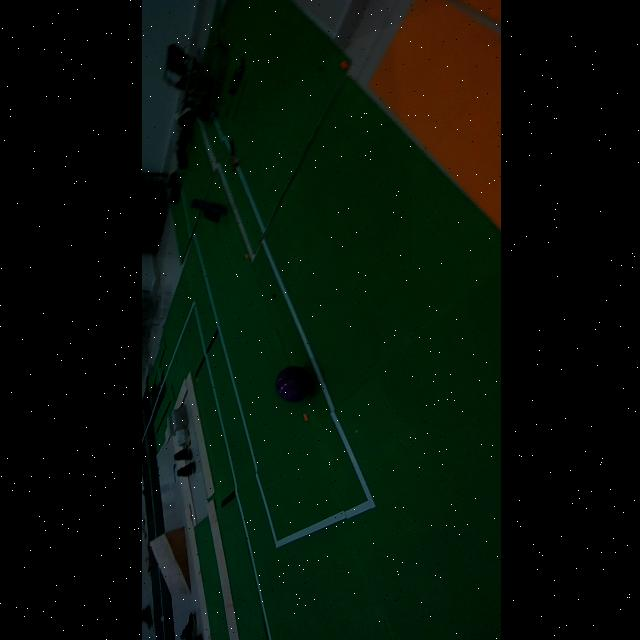P: (275, 367, 310, 402)
